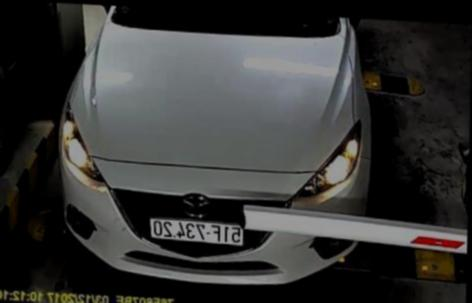License_Plate: (149, 218, 242, 248)
